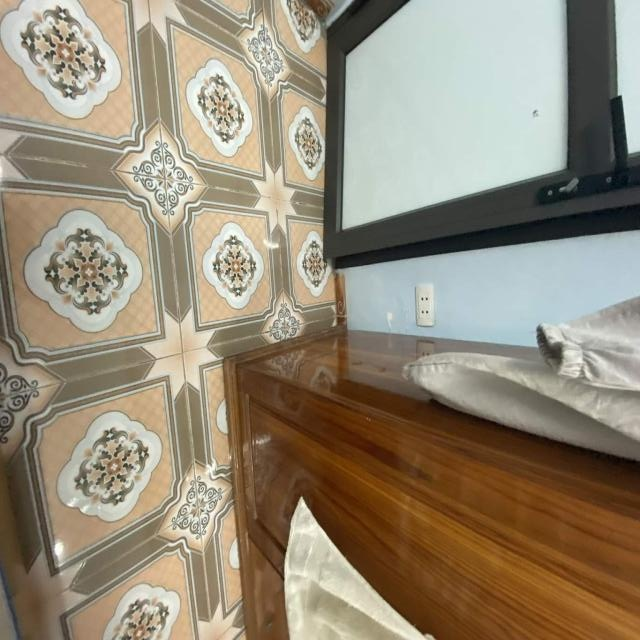outlet: (415, 284, 436, 327)
